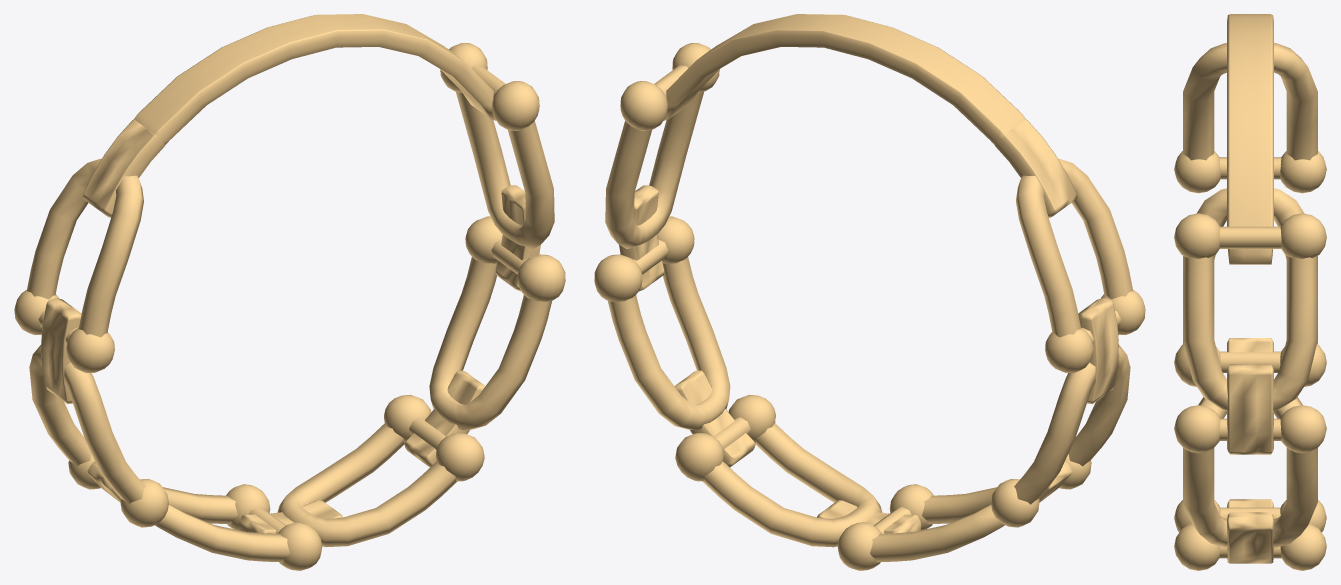
Rendered from HardwareClipEarring-Single.glb.
3 views of the same model, side by side, from view 1: azimuth 30°, elevation 25°; view 2: azimuth 150°, elevation 25°; view 3: azimuth 270°, elevation 25° (orthographic).
Visible parts, largest first — view 1: HardwareClip; view 2: HardwareClip; view 3: HardwareClip.
Part boxes in pixels (x1,y1,x2,y2): HardwareClip: (14, 14, 565, 570); HardwareClip: (594, 14, 1145, 570); HardwareClip: (1174, 14, 1326, 570).
Size of the model in its own units: 6.02 by 6 by 1.62.
